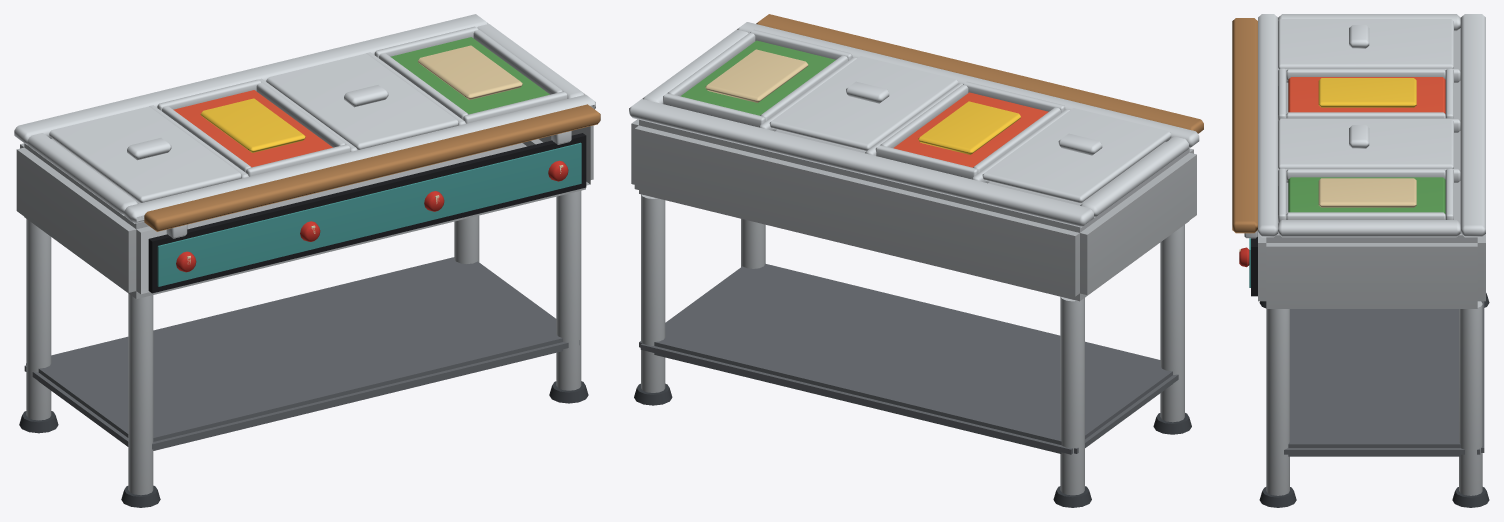
Rendered from SM_SteamTable_15.glb.
The picture shows the model from 3 angles, left to right: view 1: azimuth 30°, elevation 25°; view 2: azimuth 150°, elevation 25°; view 3: azimuth 270°, elevation 25°; orthographic projection. The views are drawn at different scales.
Parts seen in each view (by area): view 1: SM_SteamTable_15; view 2: SM_SteamTable_15; view 3: SM_SteamTable_15.
Part boxes in pixels (box(x1,y1,x2,y2)): SM_SteamTable_15: box(14, 14, 600, 507); SM_SteamTable_15: box(629, 14, 1203, 507); SM_SteamTable_15: box(1232, 14, 1489, 507).
Bounding box in the file's own units: 1.5 × 0.96 × 0.76.
1 material, 1 textured.
